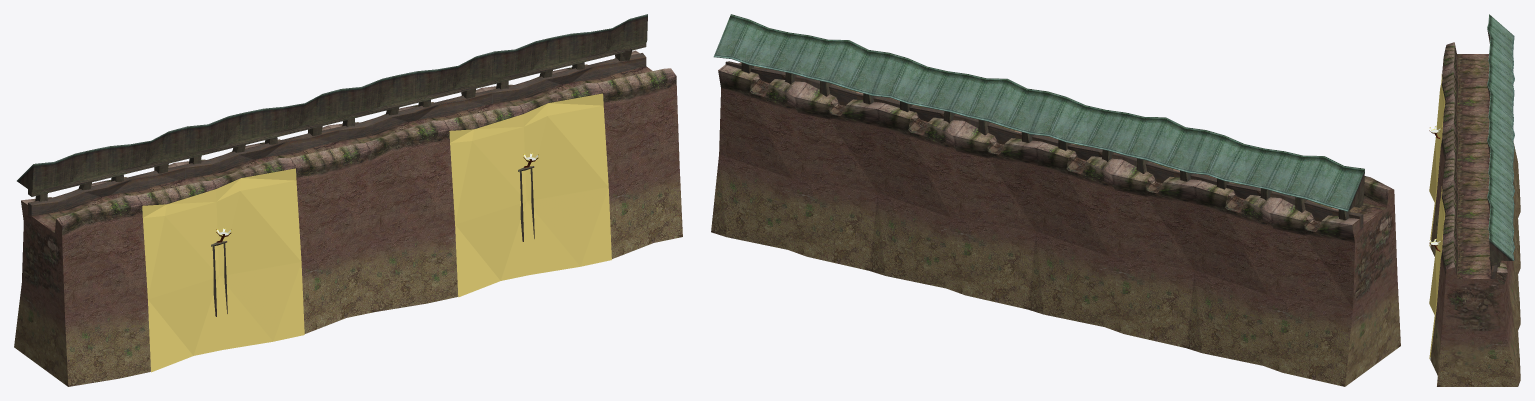
Rendered from C1SMWA40TORCH_H.obj.
3 renders of one model, left to right at view 1: azimuth 30°, elevation 25°; view 2: azimuth 150°, elevation 25°; view 3: azimuth 270°, elevation 25°, orthographic. The views are drawn at different scales.
Visible parts, largest first — view 1: Node 0, Node 2; view 2: Node 0; view 3: Node 0, Node 2.
Boxes of the visible parts, x1,y1,x2,y2 form: Node 0: (14,14,682,386); Node 2: (142,93,611,372); Node 0: (711,14,1400,386); Node 0: (1429,14,1520,386); Node 2: (1429,74,1445,358).
Size of the model in its own units: 40 by 12.54 by 6.88.
Materials: 6 (6 with a texture image).
